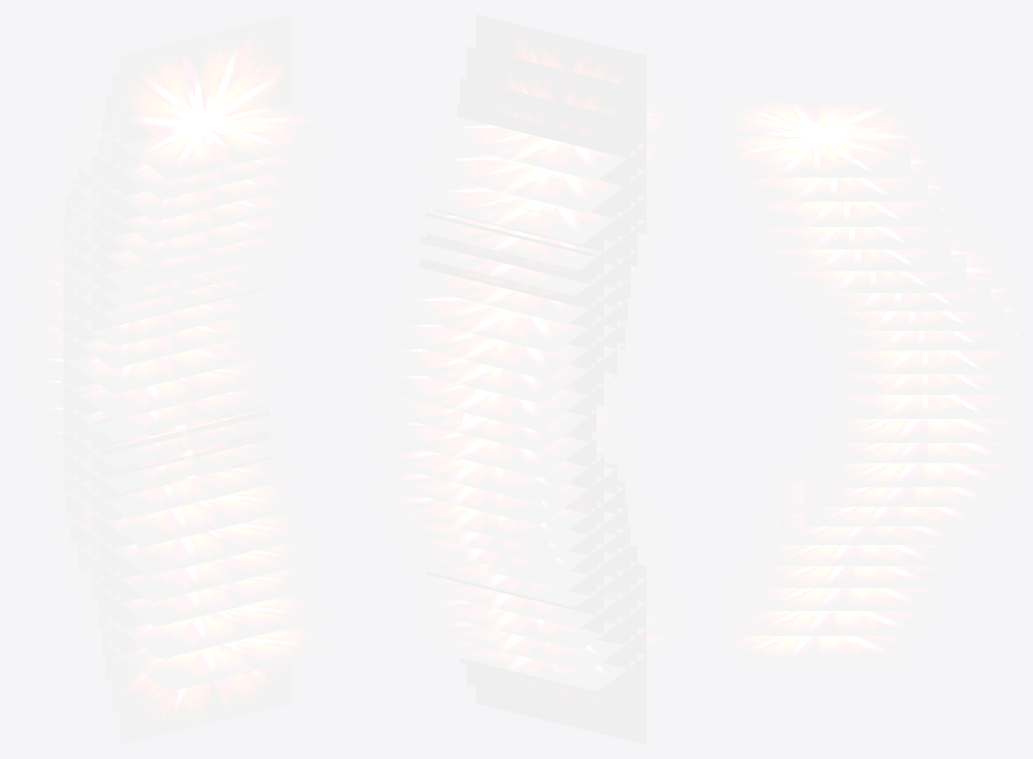
Rendered from sfx_glorb_matial_phoenixknuckle_phoenixstrike.glb.
The picture shows the model from 3 angles, left to right: view 1: azimuth 30°, elevation 25°; view 2: azimuth 150°, elevation 25°; view 3: azimuth 270°, elevation 25°; orthographic projection. The views are drawn at different scales.
Parts seen in each view (by area): view 1: sfx_glorb_matial_phoenixknuckle_phoenixstrike; view 2: sfx_glorb_matial_phoenixknuckle_phoenixstrike; view 3: sfx_glorb_matial_phoenixknuckle_phoenixstrike.
Boxes of the visible parts, x1=… form: sfx_glorb_matial_phoenixknuckle_phoenixstrike: x1=14, y1=14, x2=340, y2=744; sfx_glorb_matial_phoenixknuckle_phoenixstrike: x1=369, y1=14, x2=695, y2=744; sfx_glorb_matial_phoenixknuckle_phoenixstrike: x1=724, y1=98, x2=1018, y2=660.
Size of the model in its own units: 0.1591 by 0.6133 by 0.2513.
2 materials, 2 textured.
